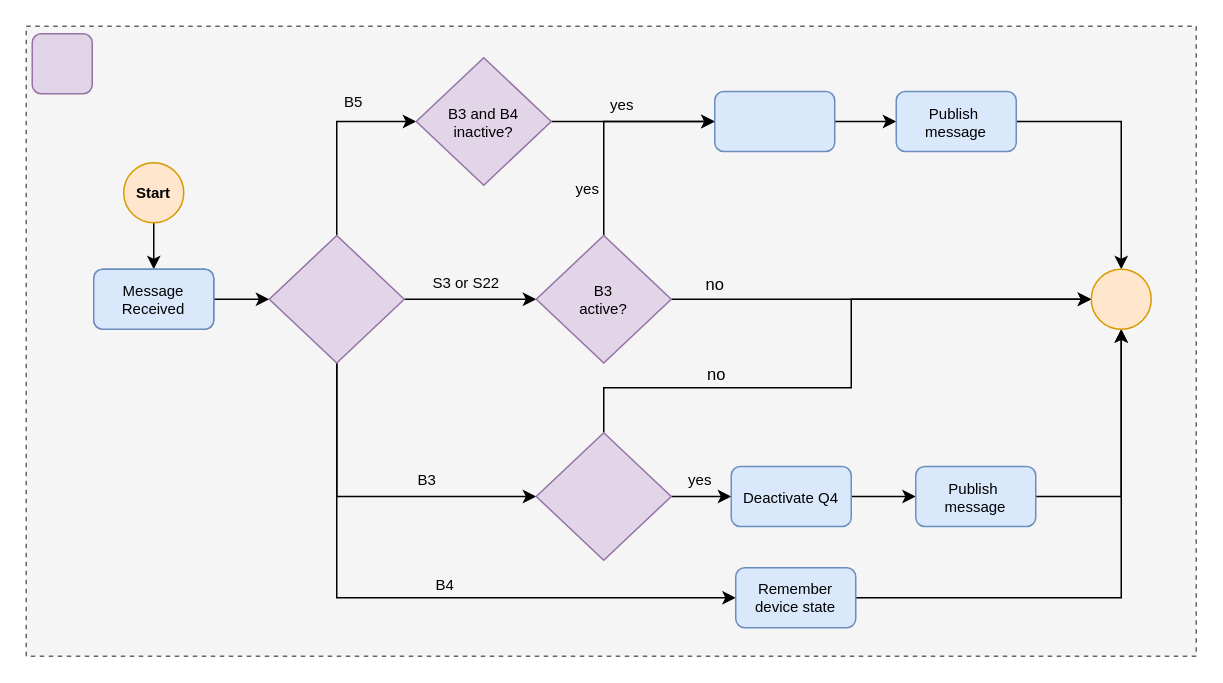
This 1223x683 diagram has some shape labels left out. The shapes that lost their labels are listed below. From the top down, each one's box as (x1, y1, x2, y2) in pixels, then its label:
(31, 32, 92, 94): Q4
(713, 90, 835, 152): Activate Q4
(268, 234, 404, 363): Eval device name
(1090, 268, 1151, 329): End
(535, 431, 671, 560): B4 active?
